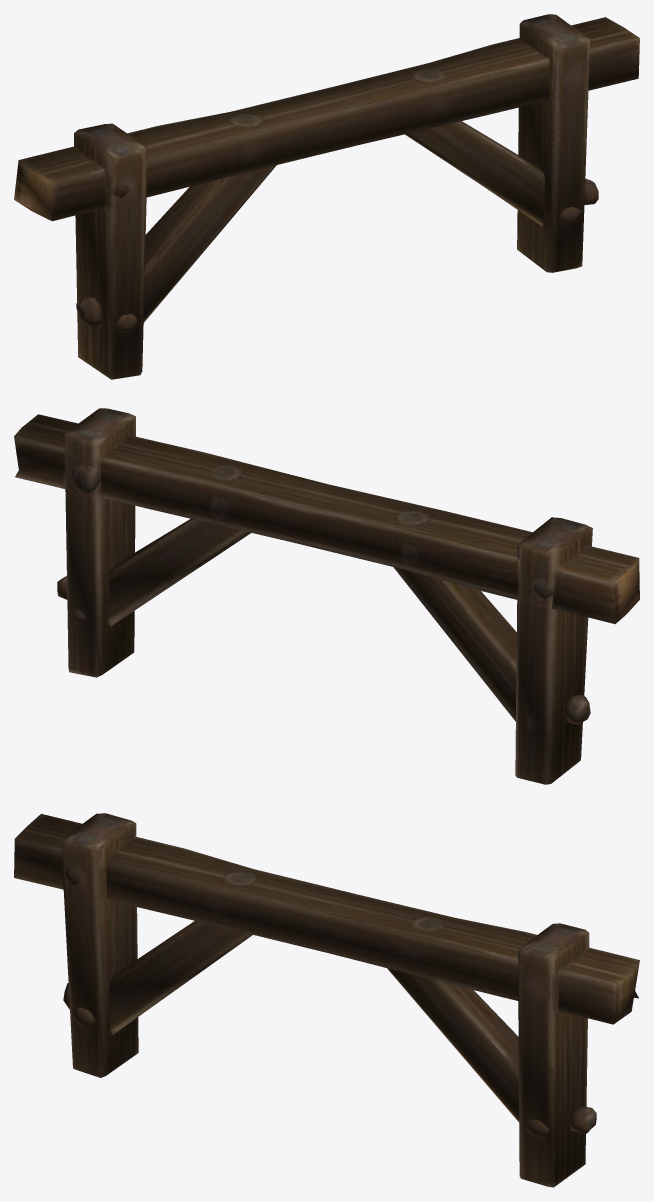
File: mt_muro_escora.glb
3 views of the same model, one above another, from view 1: azimuth 30°, elevation 25°; view 2: azimuth 150°, elevation 25°; view 3: azimuth 330°, elevation 25° (orthographic). The views are drawn at different scales.
Parts seen in each view (by area): view 1: Mesh_0.019; view 2: Mesh_0.019; view 3: Mesh_0.019.
Boxes of the visible parts, x1,y1,x2,y2 form: Mesh_0.019: [14, 14, 639, 379]; Mesh_0.019: [14, 408, 639, 784]; Mesh_0.019: [14, 813, 639, 1187].
Bounding box in the file's own units: 0.3291 × 0.1229 × 0.042.
Materials: 1 (1 with a texture image).
